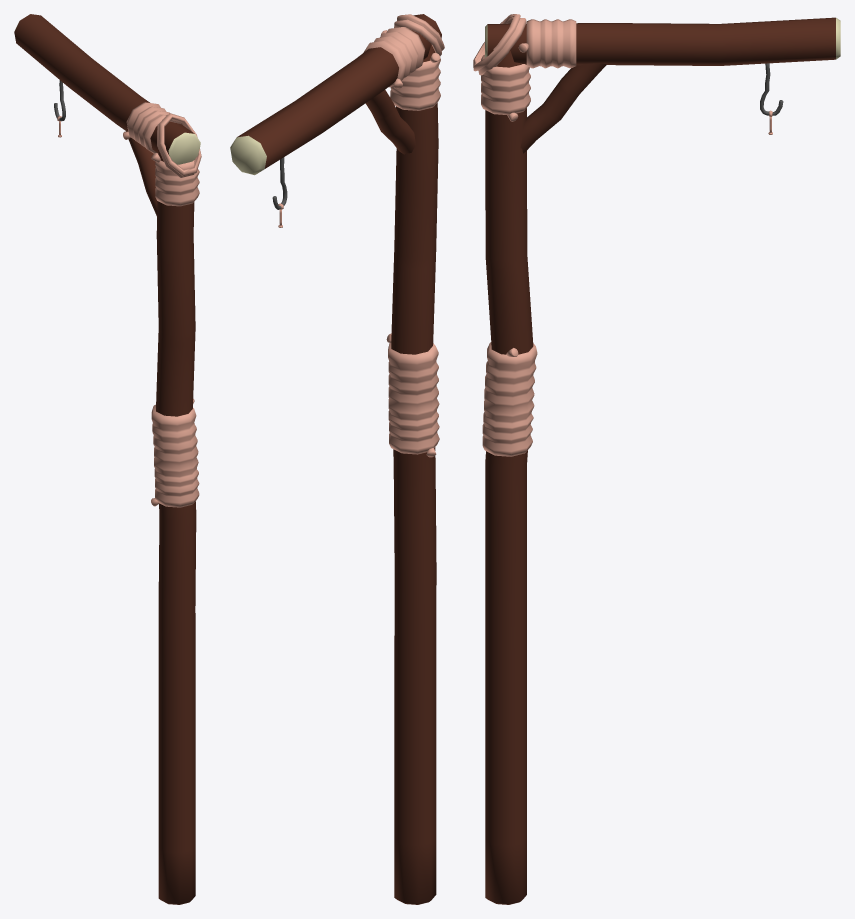
The model's file is StreetLamp.fbx.
3 renders of one model, left to right at view 1: azimuth 30°, elevation 25°; view 2: azimuth 150°, elevation 25°; view 3: azimuth 270°, elevation 25°, orthographic. The views are drawn at different scales.
Visible parts, largest first — view 1: Cylinder.001, Cylinder.002; view 2: Cylinder.001, Cylinder.002; view 3: Cylinder.001, Cylinder.002.
Part boxes in pixels (left/top/right/bottom): Cylinder.001: left=151, top=150, right=199, bottom=904; Cylinder.002: left=14, top=14, right=201, bottom=215; Cylinder.001: left=386, top=45, right=439, bottom=904; Cylinder.002: left=230, top=14, right=444, bottom=227; Cylinder.001: left=482, top=50, right=537, bottom=904; Cylinder.002: left=473, top=14, right=840, bottom=153.
Bounding box in the file's own units: 10.64 × 178 × 67.21.
